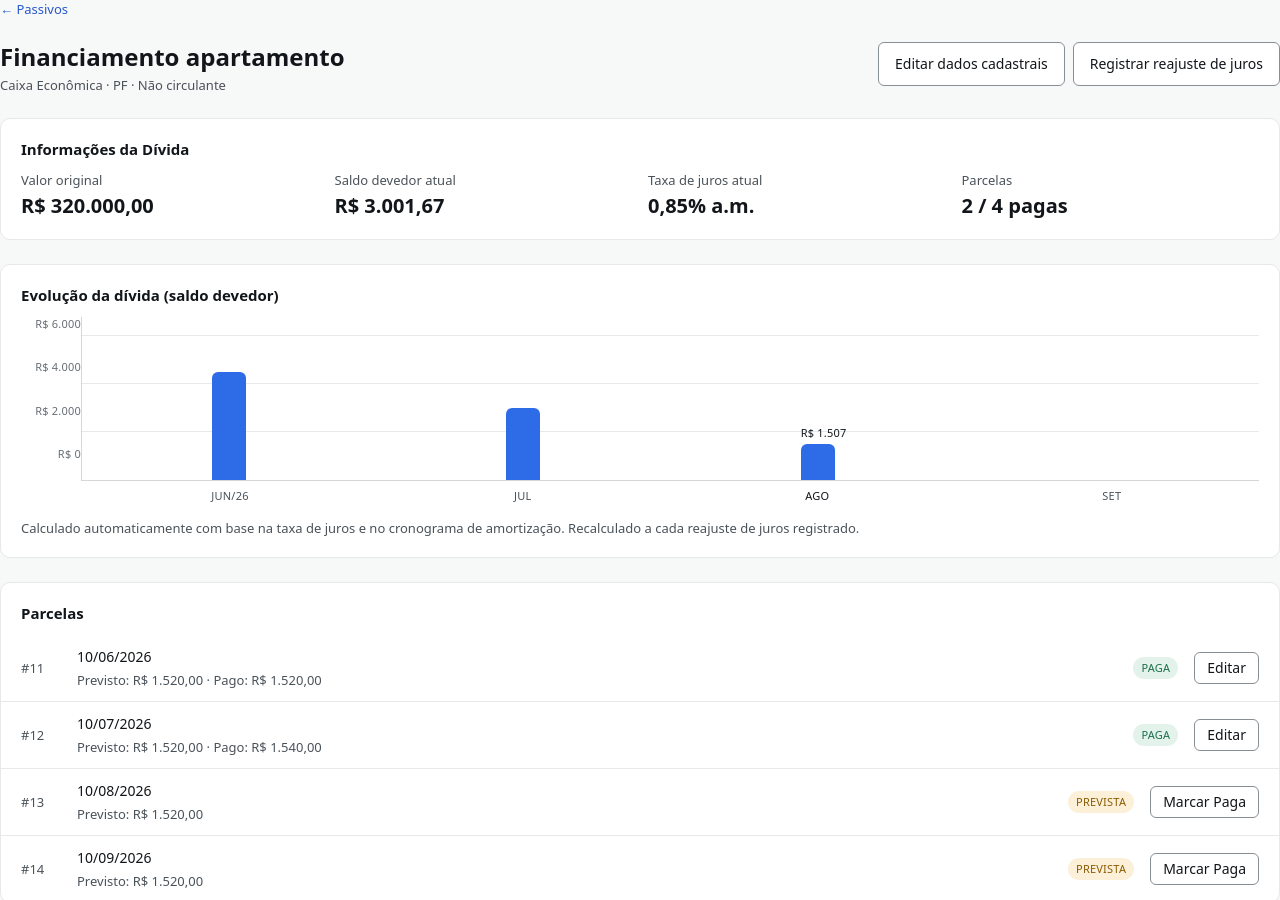
Test: Detalhe do Passivo — card "Parcelas" (Figma 91:2 nó 337:3 / Mockup 948:1687 nó 950:33) › files_design/01 §12 e §11 — "Editar" na parcela Paga abre Registrar Reajuste de Juros
Click the button "Editar" in the row of "12".
click(1227, 735)  # box [1194,719,1259,751]
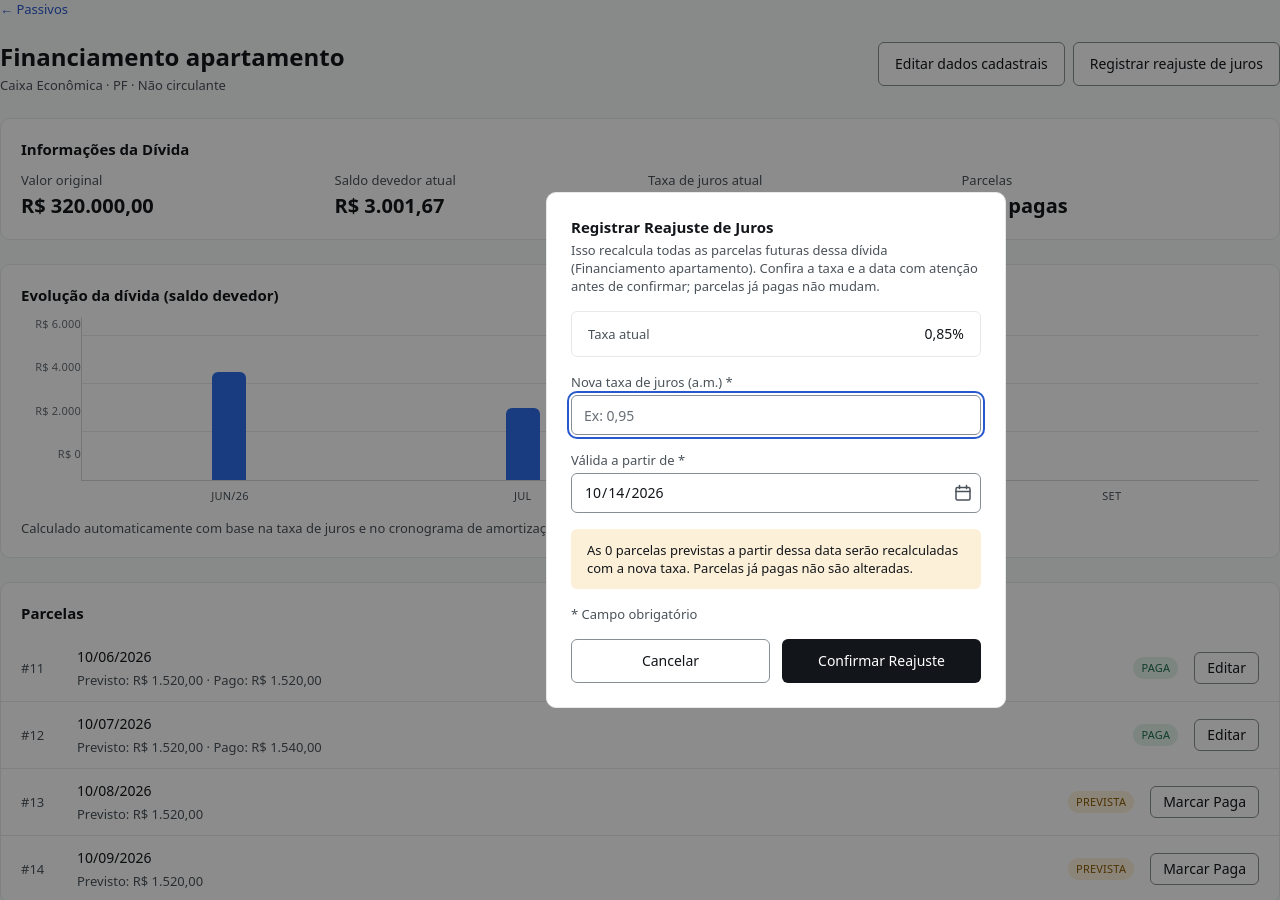
Expected: the heading "Registrar Reajuste de Juros" is shown, [571,217,773,237]
